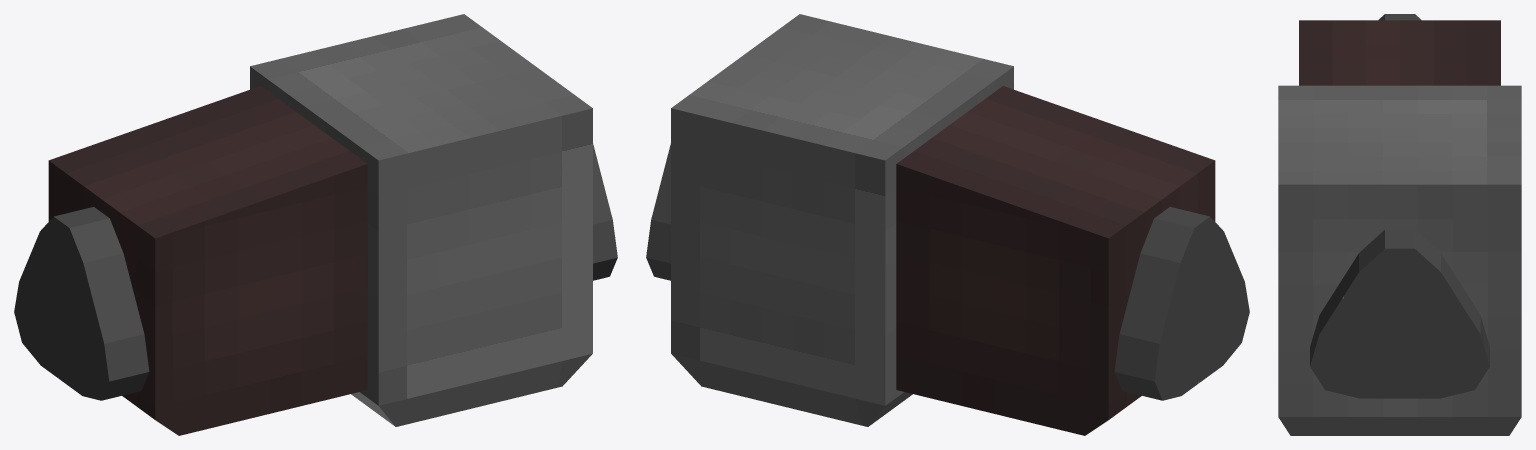
The model's file is milling_carriage.obj.
3 renders of one model, left to right at view 1: azimuth 30°, elevation 25°; view 2: azimuth 150°, elevation 25°; view 3: azimuth 270°, elevation 25°, orthographic. The views are drawn at different scales.
Visible parts, largest first — view 1: Цилиндр.011; view 2: Цилиндр.011; view 3: Цилиндр.011.
Boxes of the visible parts, left/top/right/bottom form: Цилиндр.011: left=14, top=14, right=617, bottom=435; Цилиндр.011: left=646, top=14, right=1249, bottom=435; Цилиндр.011: left=1278, top=14, right=1521, bottom=435.
Size of the model in its own units: 0.9094 by 0.4737 by 0.3988.
